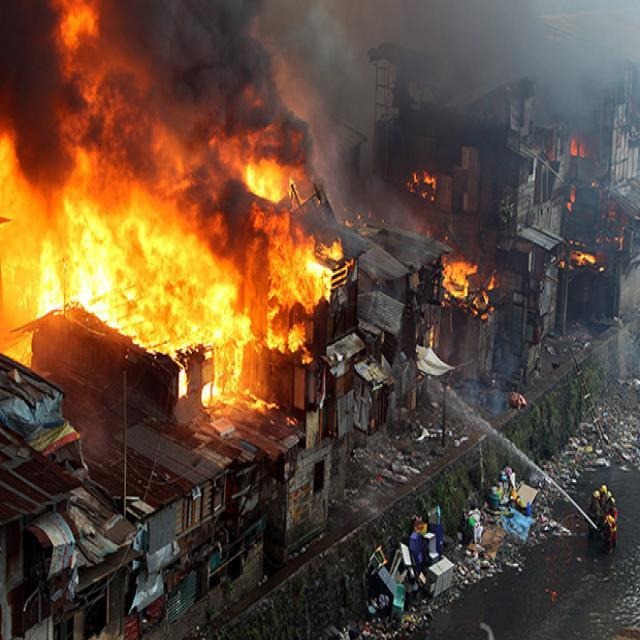Fire: (48, 150, 257, 415), (258, 202, 334, 346), (436, 245, 490, 313), (242, 138, 297, 200), (406, 162, 442, 211), (554, 240, 608, 270), (568, 130, 592, 164)
Smoke: (145, 0, 277, 119), (0, 0, 73, 186)
